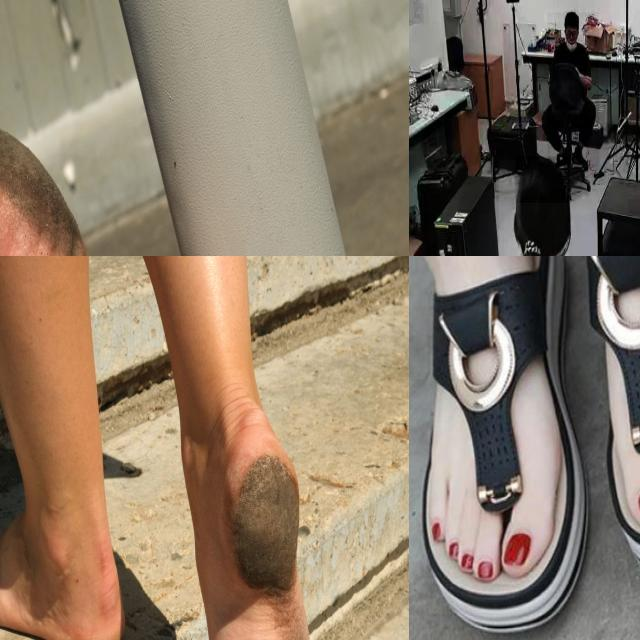Barefoots: (0, 120, 381, 256), (203, 425, 329, 640), (0, 525, 126, 640)
Sandals: (409, 256, 640, 640)
face_mask: (566, 27, 578, 48)
glasses: (564, 27, 578, 41)
head_nohelmet: (516, 156, 570, 204), (563, 10, 579, 26)
person: (548, 13, 600, 167), (499, 159, 568, 256)
shoes: (571, 144, 589, 170)
